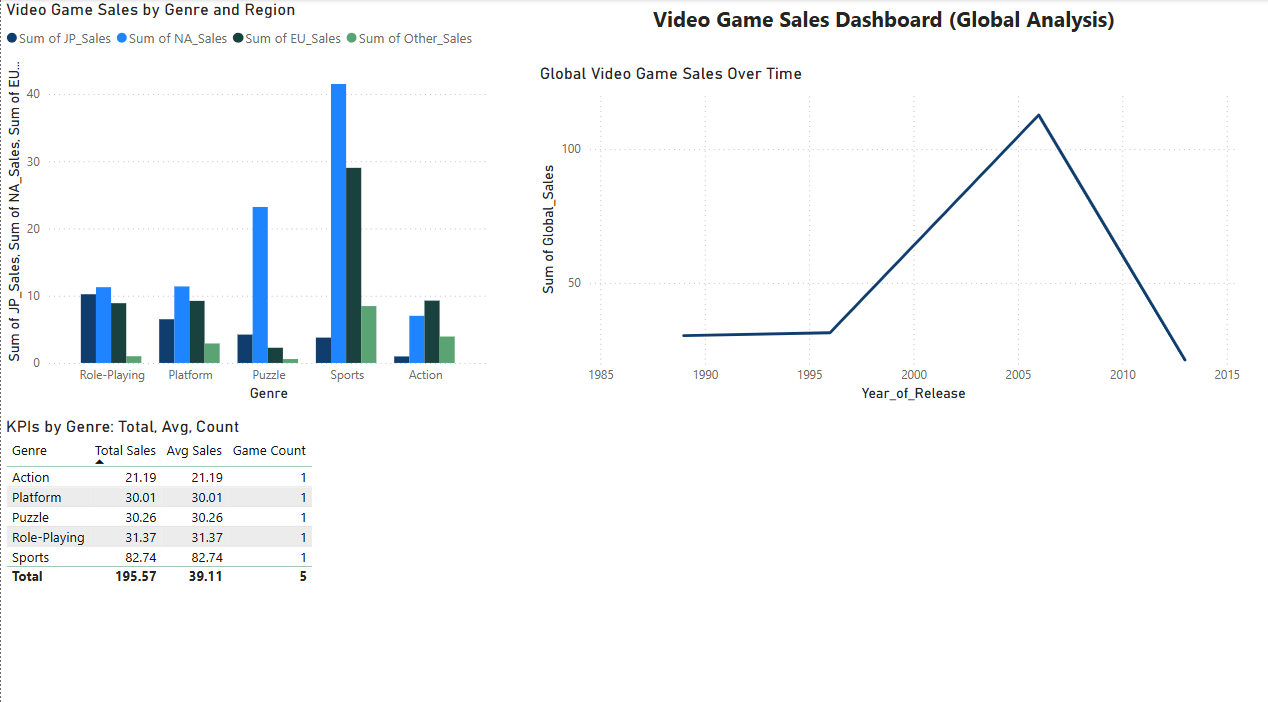

This screenshot's page, from the dashboard's own definition file:
{"tool":"powerbi","page":{"name":"Page 1","canvas":[1280,720],"ordinal":0},"visuals":[{"type":"clusteredColumnChart","title":"Video Game Sales by Genre and Region","fields":{"Category":["video_game_sales_sample.Genre"],"Y":["Sum(video_game_sales_sample.JP_Sales)","Sum(video_game_sales_sample.NA_Sales)","Sum(video_game_sales_sample.EU_Sales)","Sum(video_game_sales_sample.Other_Sales)"]},"box":[0,0,497.3,411],"z":0},{"type":"lineChart","title":"Global Video Game Sales Over Time","fields":{"Category":["video_game_sales_sample.Year_of_Release"],"Y":["Sum(video_game_sales_sample.Global_Sales)"]},"box":[538.8,65,716.7,346.1],"z":1},{"type":"tableEx","title":"KPIs by Genre: Total, Avg, Count","fields":{"Values":["video_game_sales_sample.Genre","Sum(video_game_sales_sample.Global_Sales)","Avg(video_game_sales_sample.Global_Sales)","video_game_sales_sample.Name"]},"box":[0,420.6,1280,299.2],"z":2},{"type":"textbox","box":[653.8,0,487.7,50],"z":3}]}

Visuals, with their boxes in screenshot pixels (x1, y1, x2, y2), scaled from the page's 1280x720 canvas onto the 1268x702 screenshot:
"Video Game Sales by Genre and Region" clusteredColumnChart: locate(0, 0, 493, 401)
"Global Video Game Sales Over Time" lineChart: locate(534, 63, 1244, 401)
"KPIs by Genre: Total, Avg, Count" tableEx: locate(0, 410, 1267, 701)
textbox: locate(648, 0, 1131, 49)
